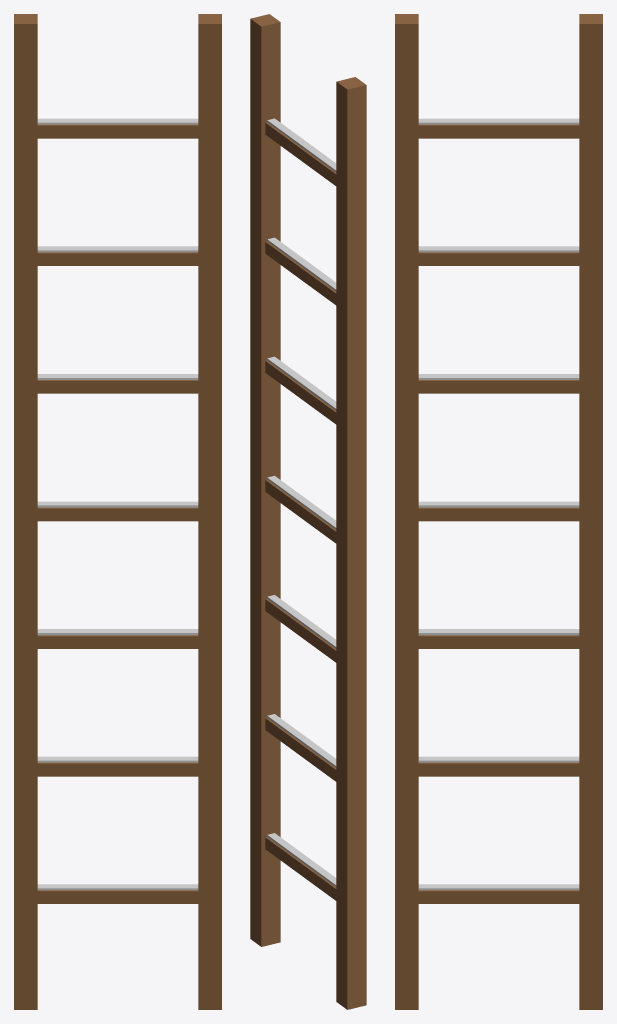
The model's file is Stairs_snow_mat.fbx.
The picture shows the model from 3 angles, left to right: view 1: azimuth 90°, elevation 25°; view 2: azimuth 210°, elevation 25°; view 3: azimuth 270°, elevation 25°; orthographic projection. The views are drawn at different scales.
Visible parts, largest first — view 1: Stairs_snow_mat; view 2: Stairs_snow_mat; view 3: Stairs_snow_mat.
Boxes of the visible parts, box(x1,y1,x2,y2) form: Stairs_snow_mat: box(14, 14, 221, 1009); Stairs_snow_mat: box(250, 14, 366, 1009); Stairs_snow_mat: box(395, 14, 602, 1009).
Bounding box in the file's own units: 0.0476 × 2.19 × 0.4176.
